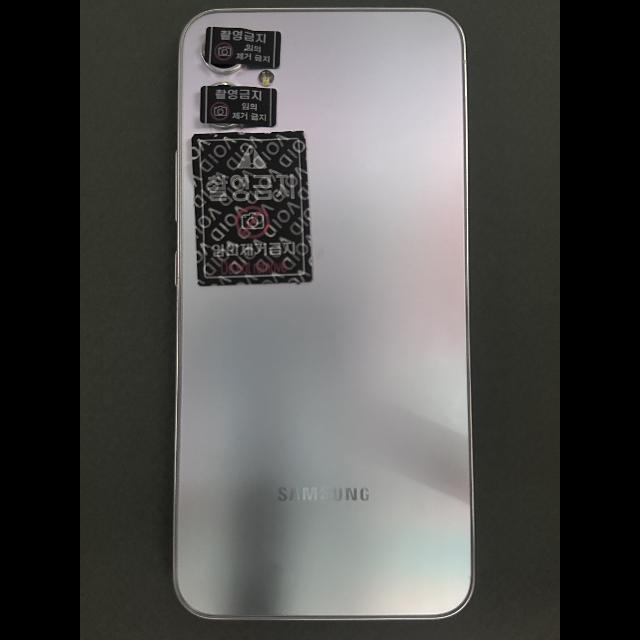lens: (201, 43, 245, 74)
phone: (173, 8, 473, 620)
sticker: (192, 131, 313, 286), (205, 25, 282, 68), (200, 85, 277, 127)
